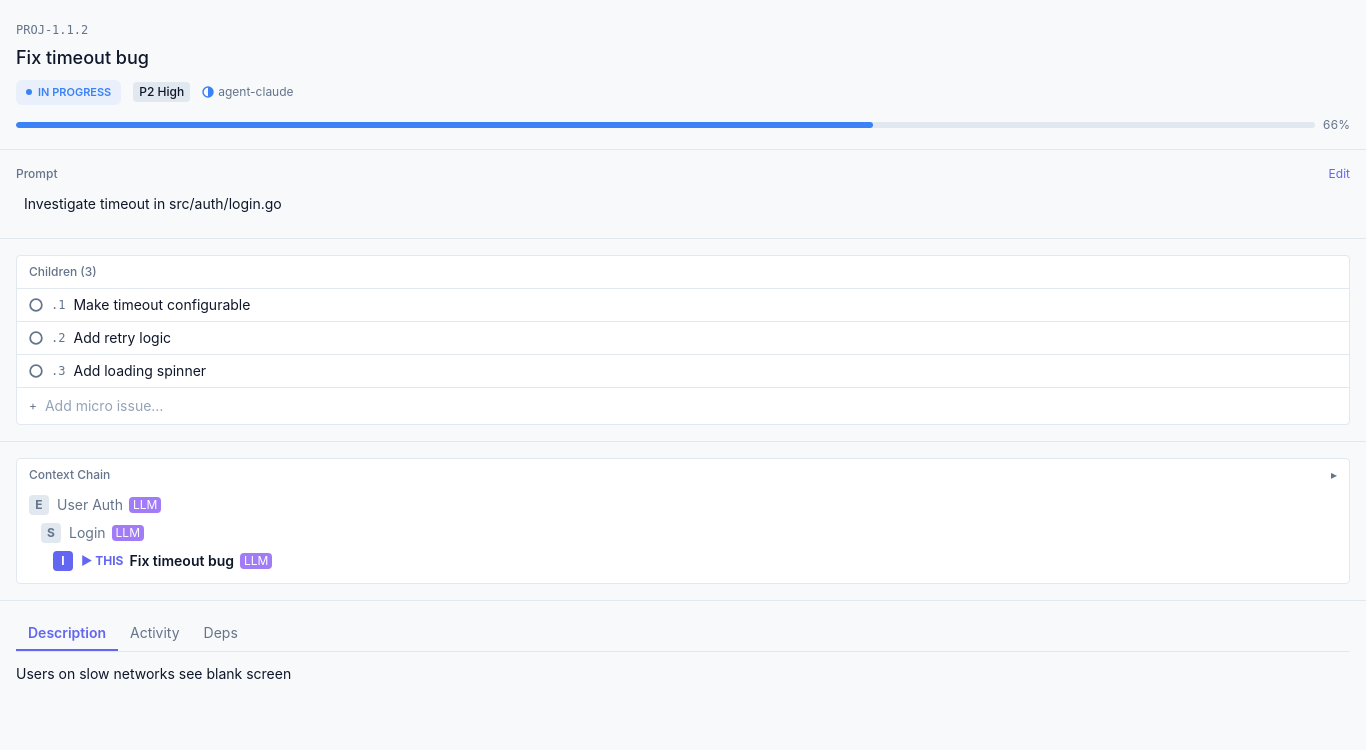
Test case: NodeDetail › opens prompt editor when Edit is clicked
Click the button with test id "edit-prompt-button".
click(1339, 174)  # box [1329,166,1350,182]
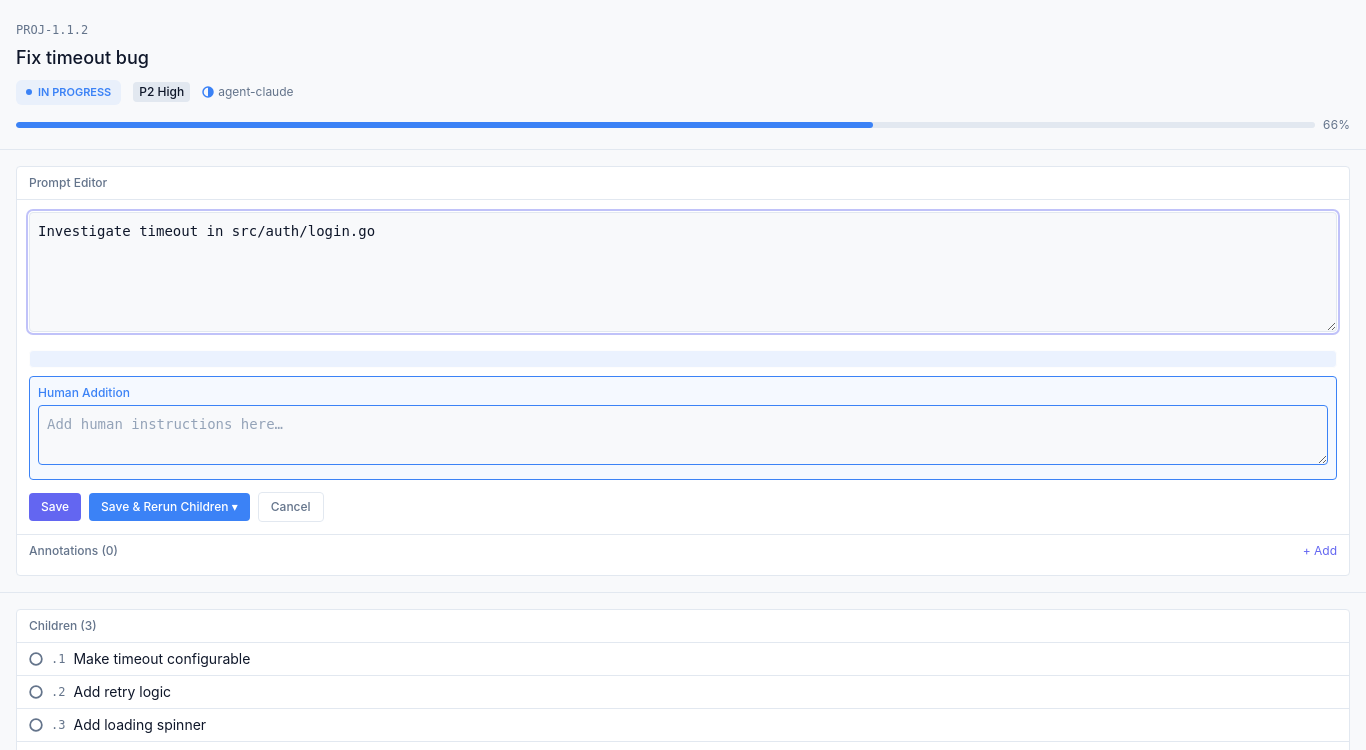
expect the element with test id "prompt-editor" is shown: met, box [16,166,1350,576]
